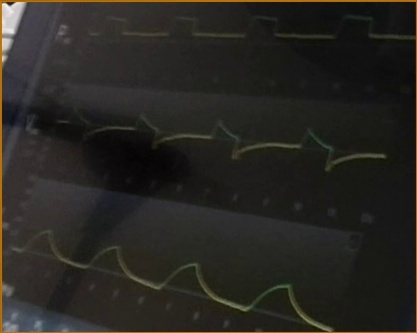Normal Flow: (56, 100, 386, 173)
Normal Volume: (13, 227, 334, 331)
